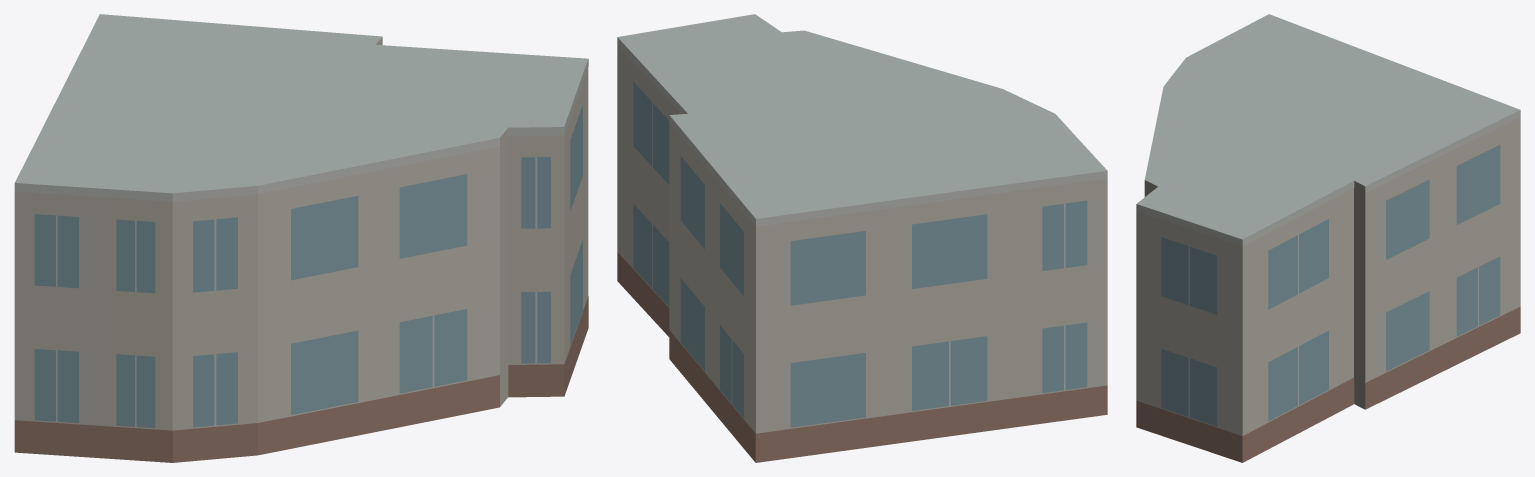
The model's file is survey-upis-32633433.glb.
3 views of the same model, side by side, from view 1: azimuth 30°, elevation 25°; view 2: azimuth 150°, elevation 25°; view 3: azimuth 270°, elevation 25° (orthographic). The views are drawn at different scales.
Parts seen in each view (by area): view 1: survey-upis-32633433.tmp; view 2: survey-upis-32633433.tmp; view 3: survey-upis-32633433.tmp.
Boxes of the visible parts, x1=… form: survey-upis-32633433.tmp: x1=14, y1=14, x2=588, y2=462; survey-upis-32633433.tmp: x1=617, y1=14, x2=1107, y2=462; survey-upis-32633433.tmp: x1=1136, y1=14, x2=1520, y2=462.
Bounding box in the file's own units: 16.9 × 7.8 × 12.17.
